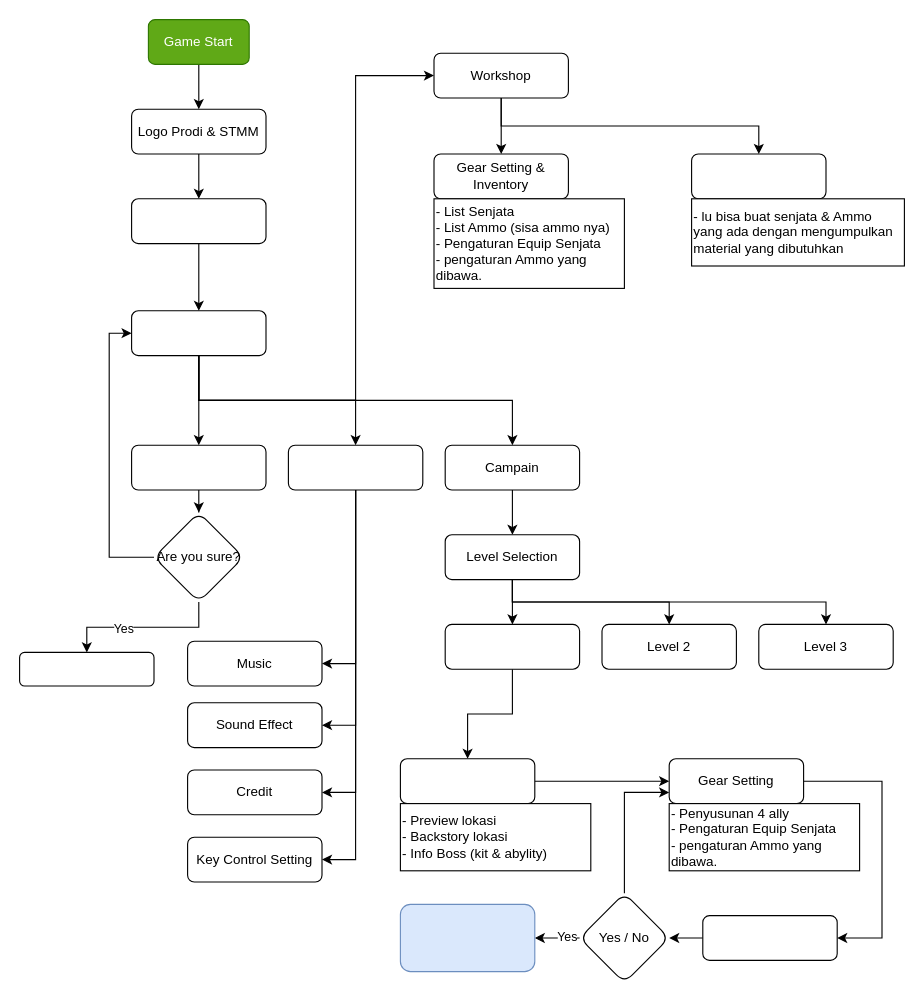
This 924x1002 diagram has some shape labels left out. The centre of each missing label's shape, as x and y in pixels:
Crafting: the point at 758,176
Gameplay: the point at 467,937
Info Level: the point at 467,781
Level 1: the point at 512,646
Loading Screen: the point at 198,221
Main Menu: the point at 198,333
Quit: the point at 198,467
Quit game: the point at 86,668
Ready: the point at 769,937
Setting: the point at 355,467
